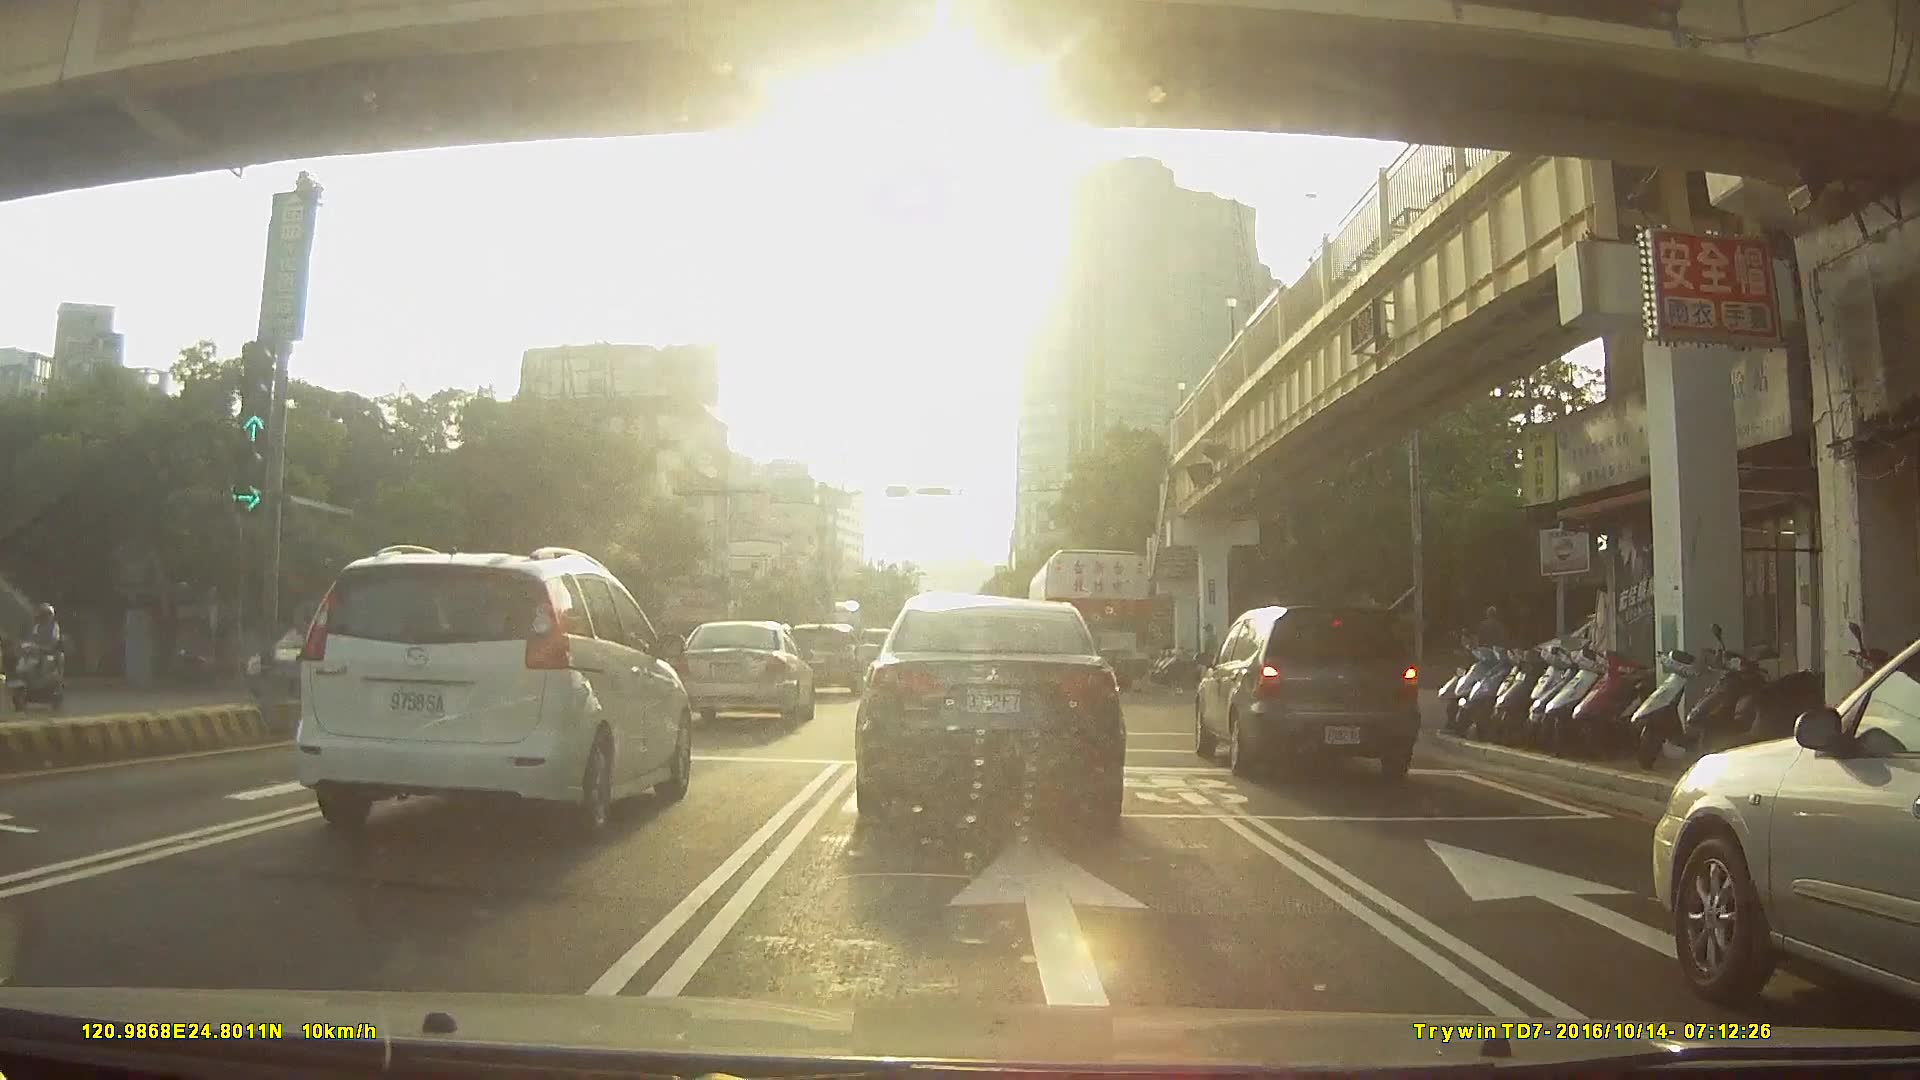pedestrian: (1205, 619, 1232, 682)
rider: (13, 603, 77, 711)
vehicle: (292, 542, 696, 840), (1649, 641, 1920, 1013), (852, 590, 1125, 831), (1195, 602, 1421, 778), (1026, 548, 1150, 691), (676, 619, 815, 726), (240, 622, 369, 699), (779, 623, 863, 696)
